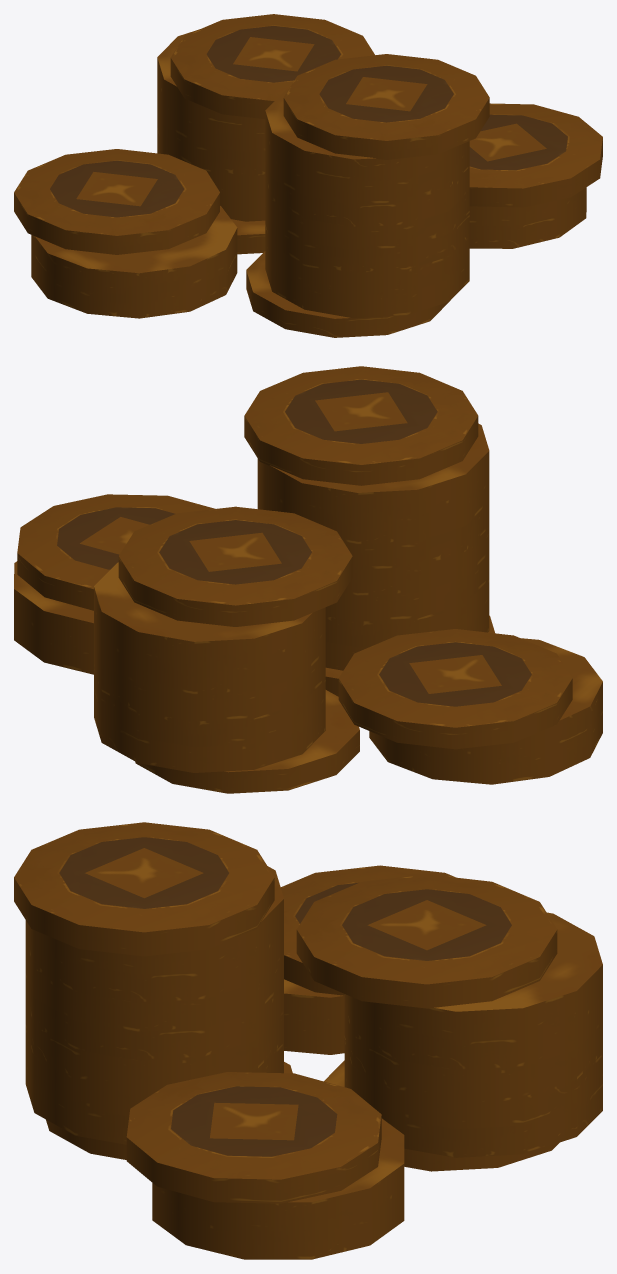
Rendered from Coin_Pile.gltf.
The picture shows the model from 3 angles, top to bottom: view 1: azimuth 30°, elevation 25°; view 2: azimuth 150°, elevation 25°; view 3: azimuth 270°, elevation 25°; orthographic projection. The views are drawn at different scales.
Visible parts, largest first — view 1: Coin_Pile; view 2: Coin_Pile; view 3: Coin_Pile.
Boxes of the visible parts, x1,y1,x2,y2 form: Coin_Pile: (14, 14, 602, 337); Coin_Pile: (14, 366, 602, 793); Coin_Pile: (14, 822, 602, 1259).
Bounding box in the file's own units: 0.1975 × 0.0735 × 0.1542.
Materials: 1 (1 with a texture image).
